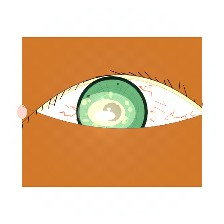corneal_ulcer: (76, 88, 137, 137)
